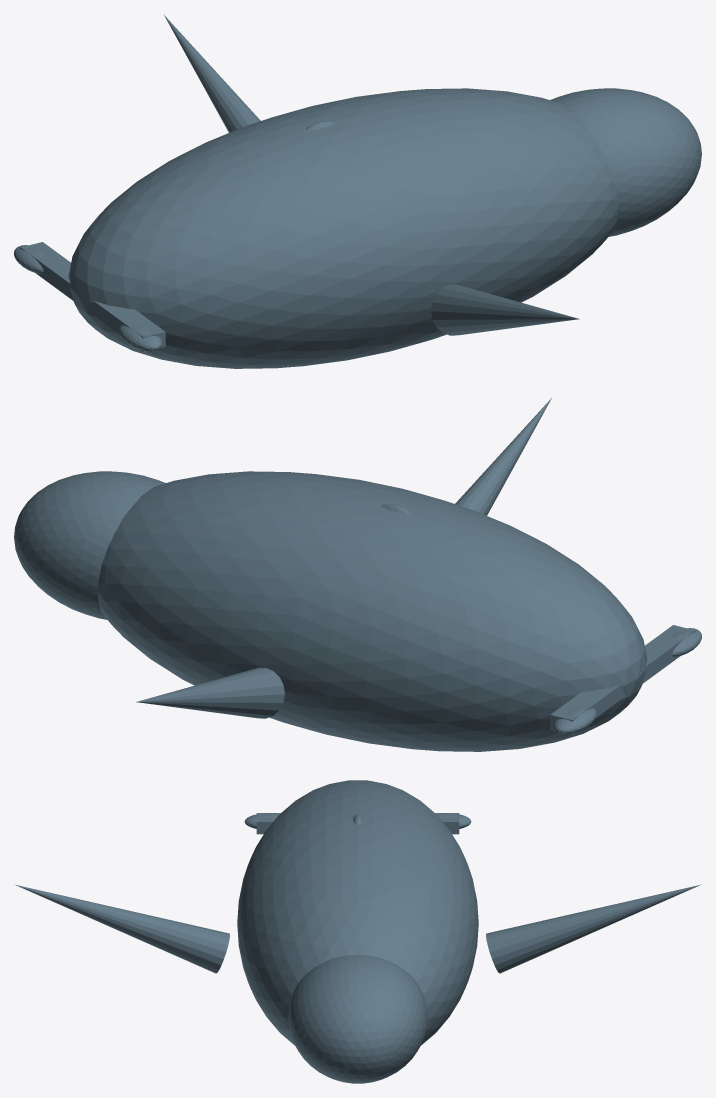
The model's file is whale.glb.
3 renders of one model, top to bottom at view 1: azimuth 30°, elevation 25°; view 2: azimuth 150°, elevation 25°; view 3: azimuth 270°, elevation 25°, orthographic. The views are drawn at different scales.
Parts seen in each view (by area): view 1: body_w, head_w, pectoral_l, fluke, pectoral_r, fluke_l, fluke_r; view 2: body_w, head_w, pectoral_r, fluke, pectoral_l, fluke_r, fluke_l; view 3: body_w, head_w, pectoral_l, pectoral_r, fluke.
Boxes of the visible parts, bbox=[...] form: body_w: bbox=[68, 88, 618, 368]; head_w: bbox=[550, 88, 701, 236]; pectoral_l: bbox=[431, 284, 579, 335]; fluke: bbox=[20, 242, 165, 351]; pectoral_r: bbox=[164, 15, 260, 132]; fluke_l: bbox=[119, 324, 161, 351]; fluke_r: bbox=[14, 245, 43, 273]; body_w: bbox=[97, 471, 647, 751]; head_w: bbox=[14, 471, 165, 619]; pectoral_r: bbox=[136, 667, 284, 718]; fluke: bbox=[550, 625, 695, 734]; pectoral_l: bbox=[455, 398, 551, 515]; fluke_r: bbox=[554, 707, 596, 734]; fluke_l: bbox=[672, 628, 701, 656]; body_w: bbox=[237, 780, 478, 1045]; head_w: bbox=[288, 954, 427, 1083]; pectoral_l: bbox=[15, 884, 229, 973]; pectoral_r: bbox=[486, 884, 700, 973]; fluke: bbox=[256, 813, 459, 834].
Bounding box in the file's own units: 6.12 × 2.13 × 7.12.
